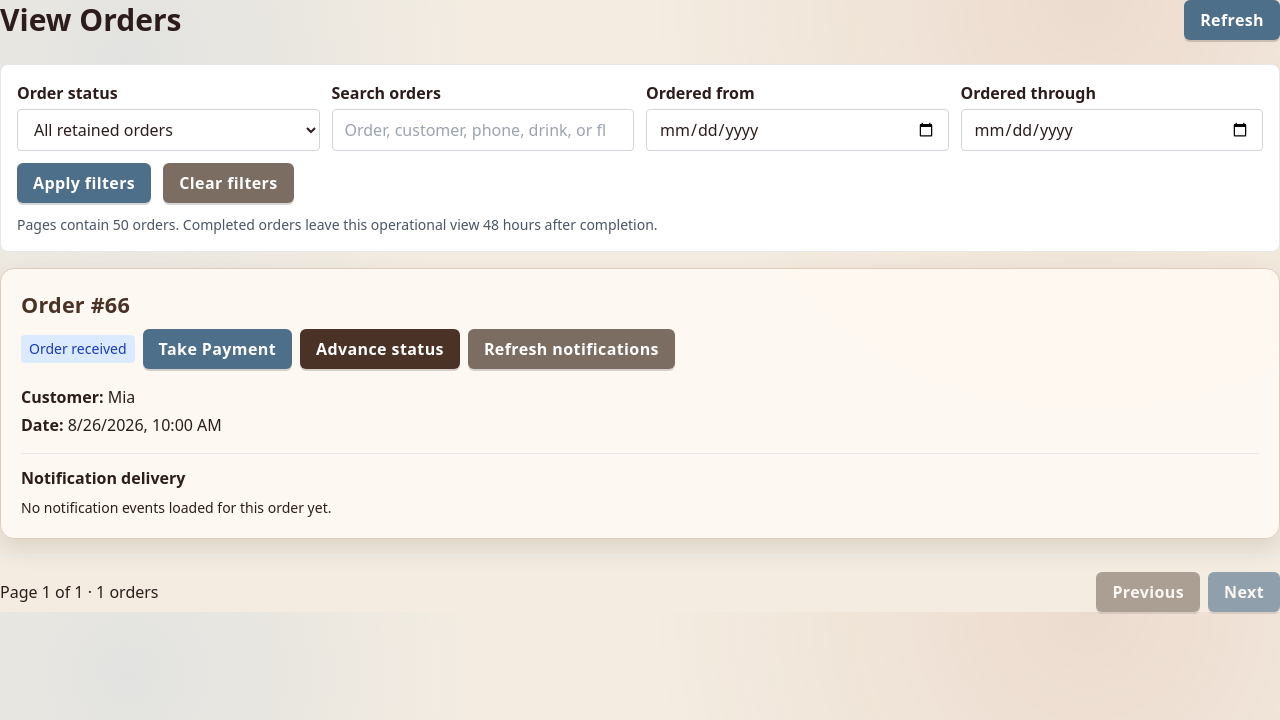
Scenario: staff manual payment recording › records Other independently of Received fulfillment
Click the button "Take Payment": (217, 349) top-left (143, 329), bottom-right (292, 369)
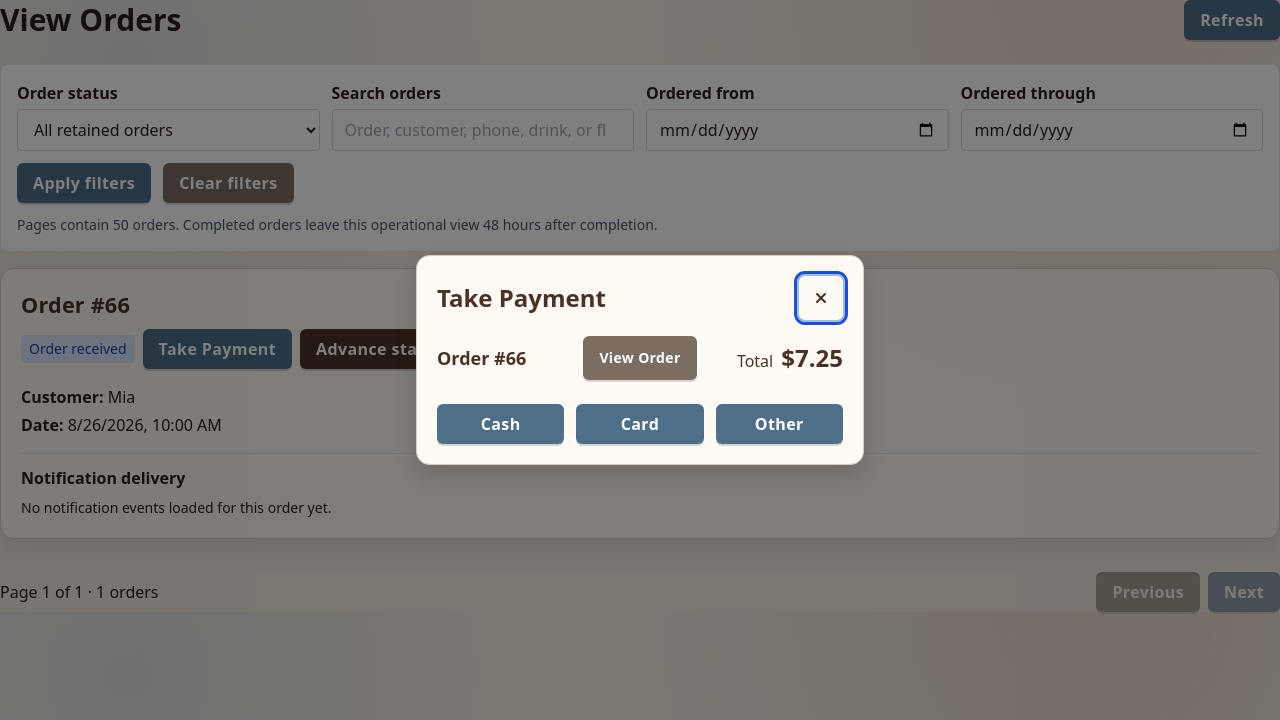
Click the button "Other": (779, 424) top-left (716, 404), bottom-right (843, 444)
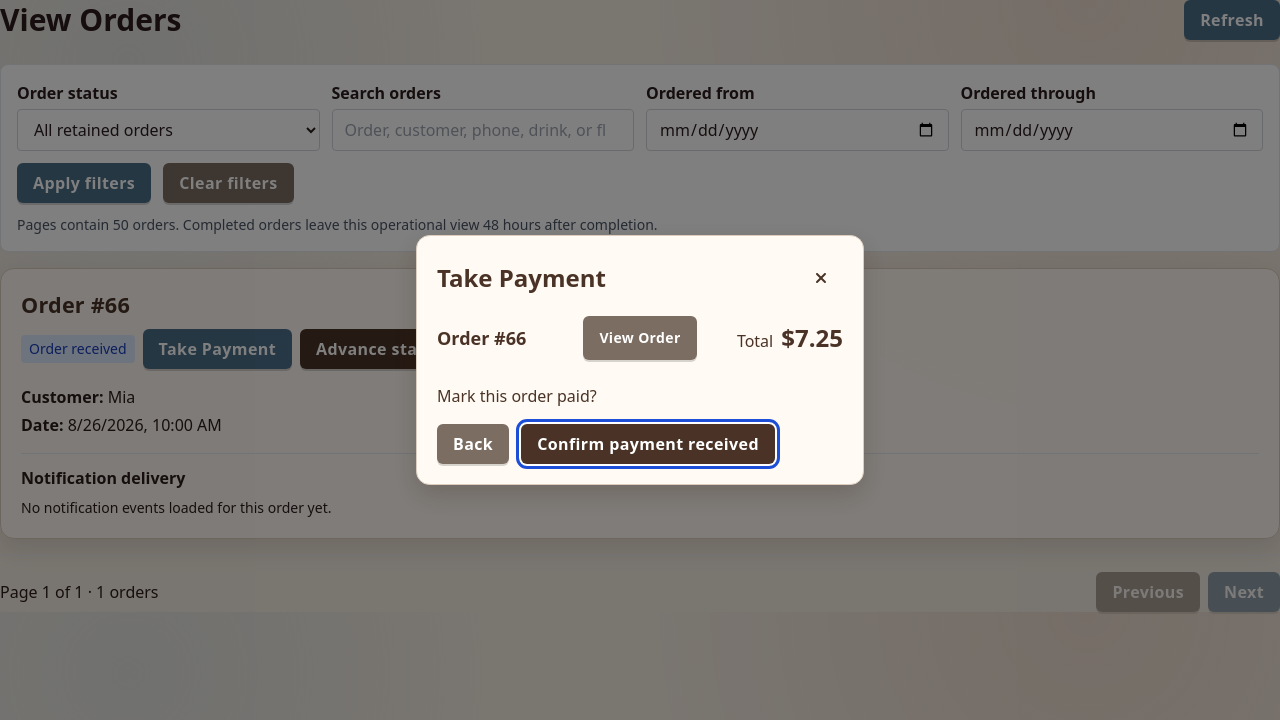
expect the text "Paid · Other" is not shown: met
Click the button "Confirm payment received": (648, 444) top-left (521, 424), bottom-right (775, 464)
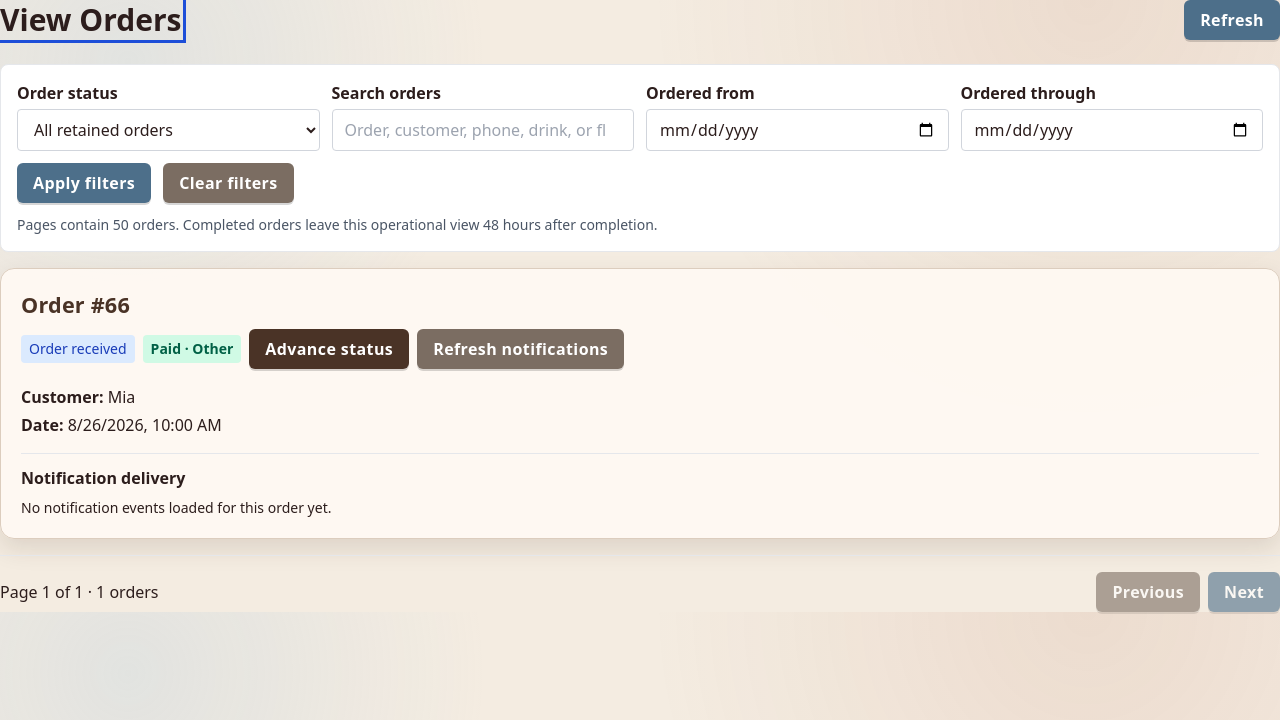
expect the text "Paid · Other" is shown: met, box top-left (143, 335), bottom-right (241, 363)
expect the dialog is gone: met
expect the button "Take Payment" is gone: met
